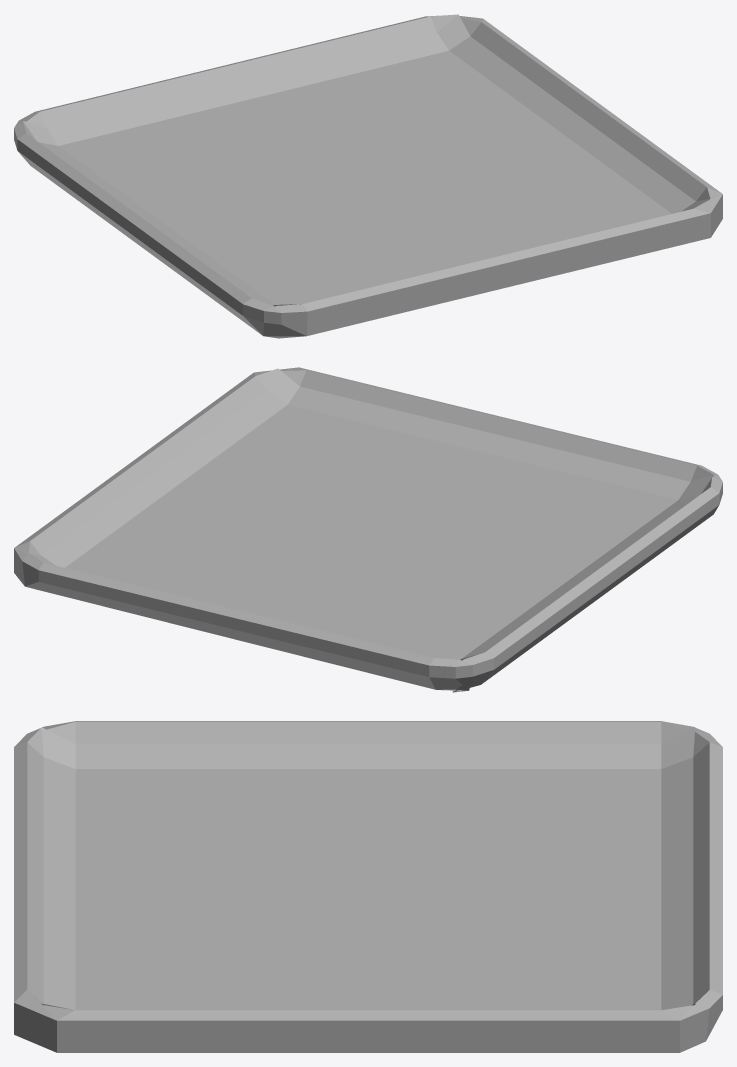
The model's file is Plate.fbx.
3 renders of one model, top to bottom at view 1: azimuth 30°, elevation 25°; view 2: azimuth 150°, elevation 25°; view 3: azimuth 270°, elevation 25°, orthographic. The views are drawn at different scales.
Parts seen in each view (by area): view 1: Cube; view 2: Cube; view 3: Cube.
Part boxes in pixels (bbox=[...]): Cube: bbox=[14, 14, 722, 338]; Cube: bbox=[14, 367, 722, 692]; Cube: bbox=[14, 721, 722, 1052].
Bounding box in the file's own units: 200 × 16.3 × 200.
Materials: 1 (1 with a texture image).
